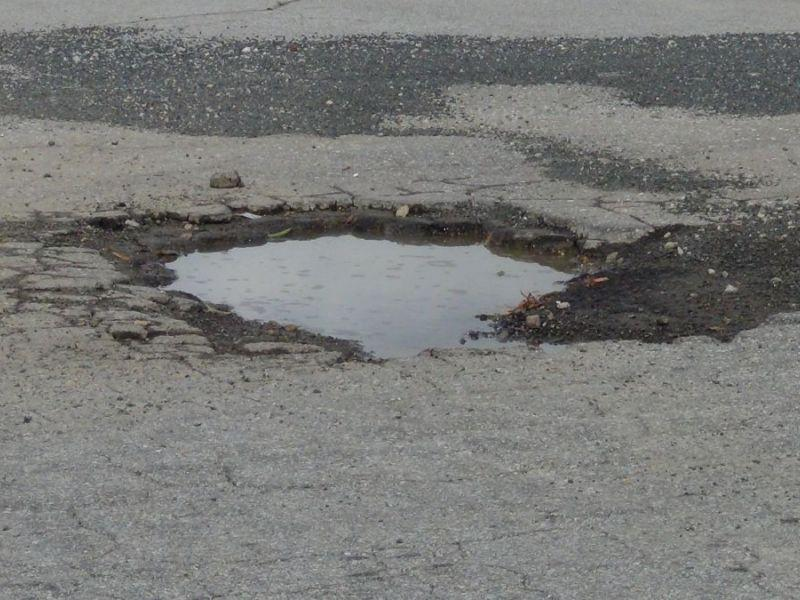pothole: (127, 196, 642, 360)
